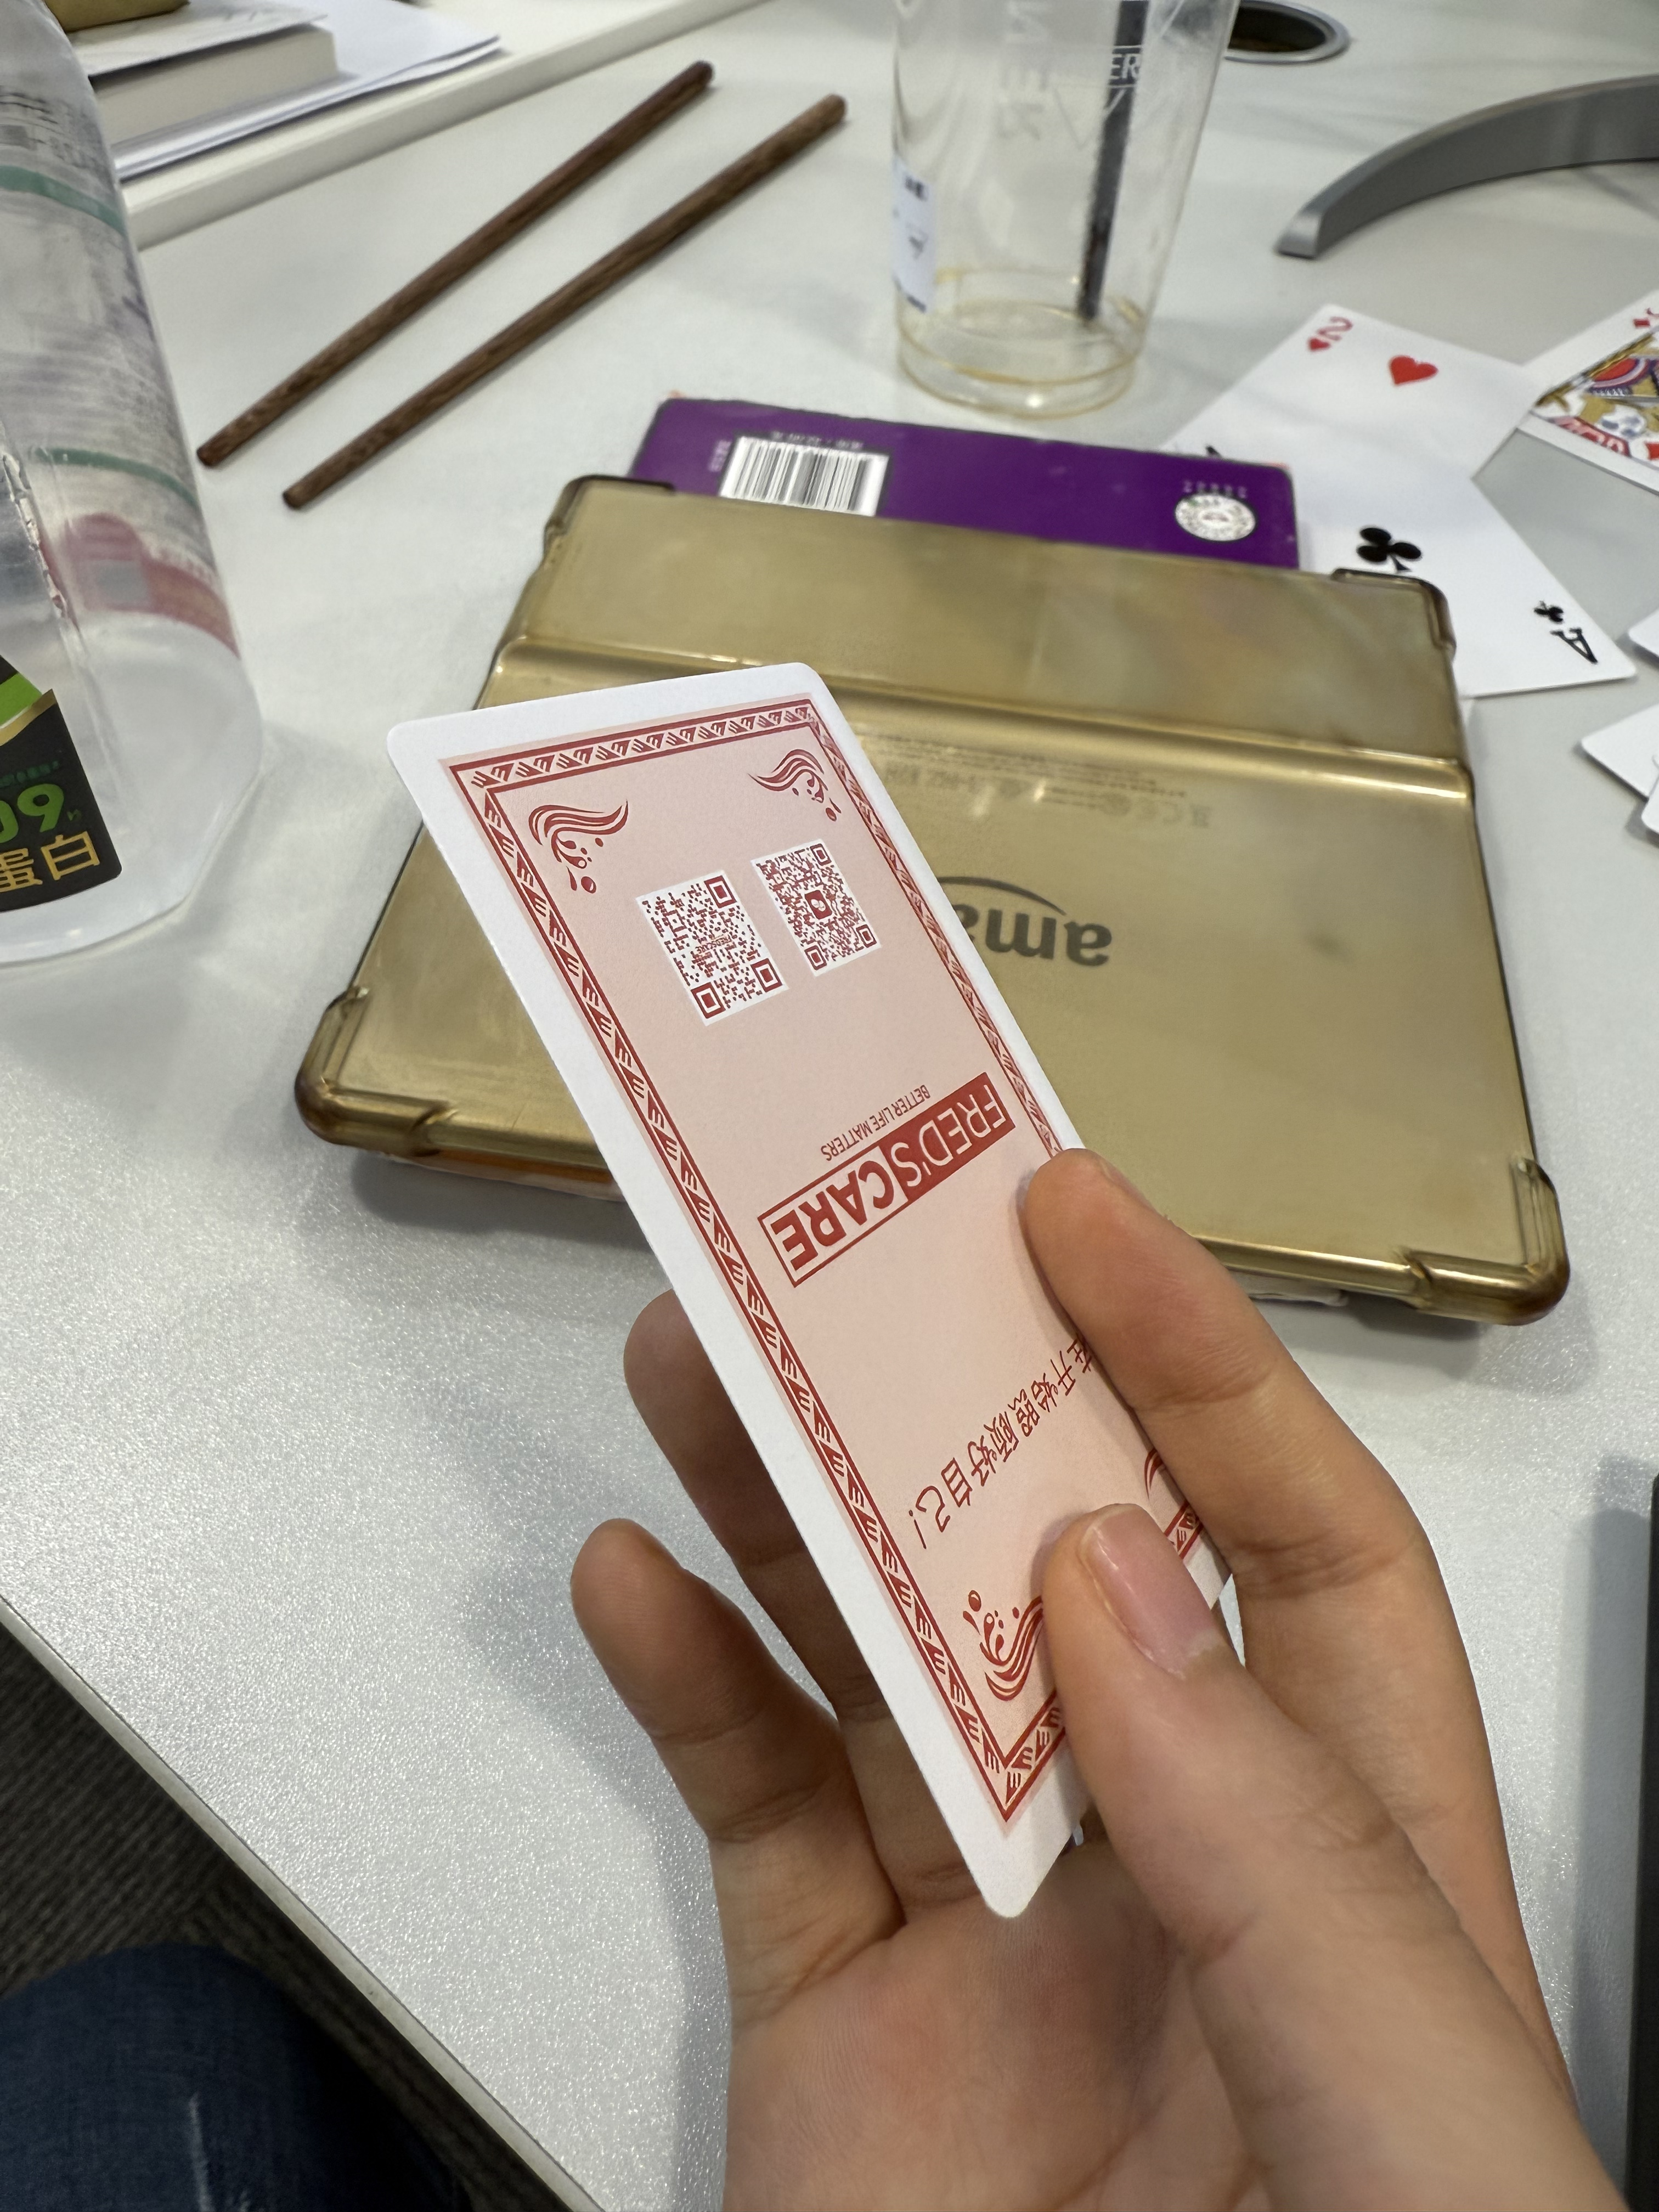poker: (376, 657, 1286, 1923), (1161, 409, 1643, 705), (1159, 300, 1549, 577), (1469, 286, 1659, 507)
